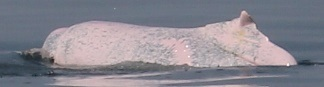fin: (19, 2, 301, 74)
